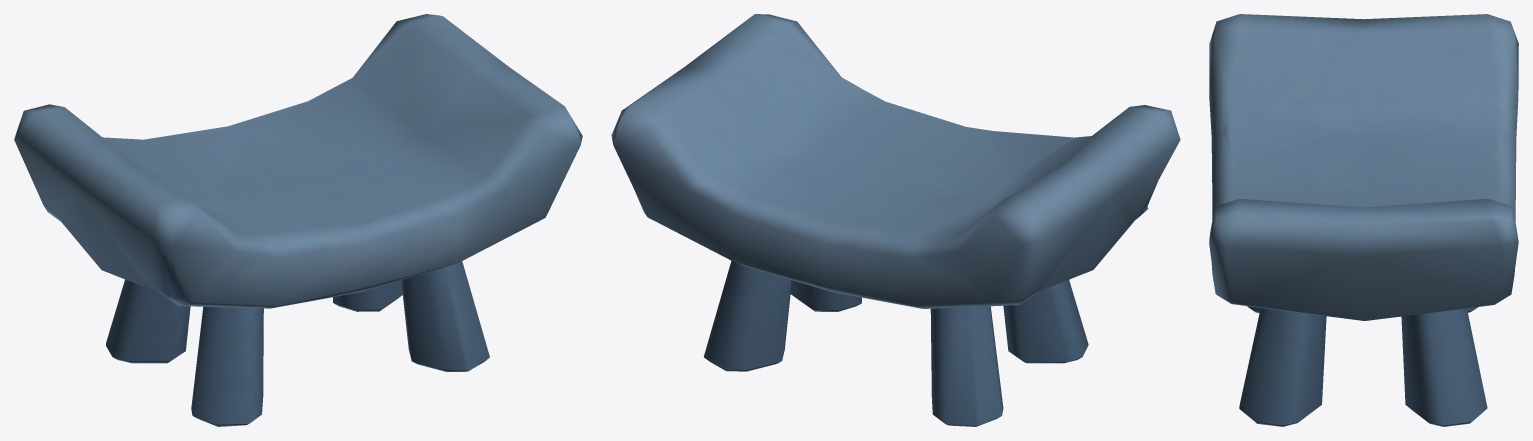
File: Meshy_AI_model_20261128_texture.fbx
The picture shows the model from 3 angles, left to right: view 1: azimuth 30°, elevation 25°; view 2: azimuth 150°, elevation 25°; view 3: azimuth 270°, elevation 25°; orthographic projection.
Parts seen in each view (by area): view 1: geometry_0; view 2: geometry_0; view 3: geometry_0.
Boxes of the visible parts, x1,y1,x2,y2 form: geometry_0: [14, 14, 582, 426]; geometry_0: [611, 14, 1180, 426]; geometry_0: [1209, 14, 1518, 426].
Bounding box in the file's own units: 100 × 53.95 × 61.38.
Materials: 1 (1 with a texture image).
